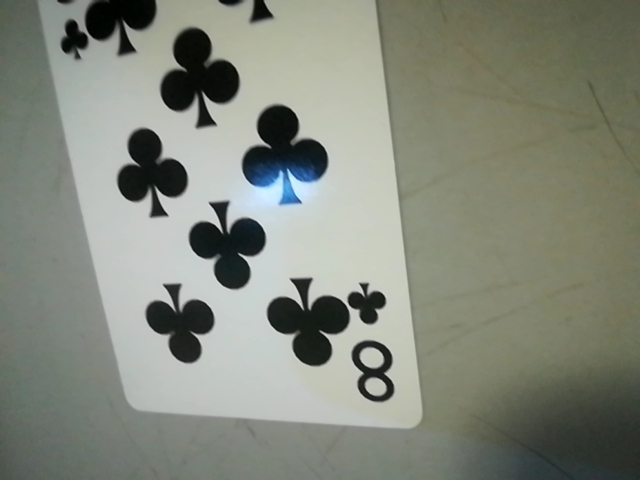mh 8: (341, 274, 412, 414)
